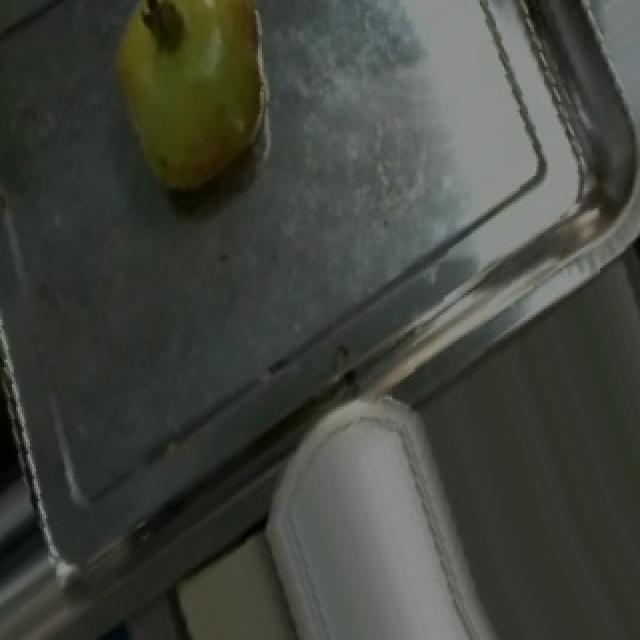fruit: (74, 0, 306, 213)
